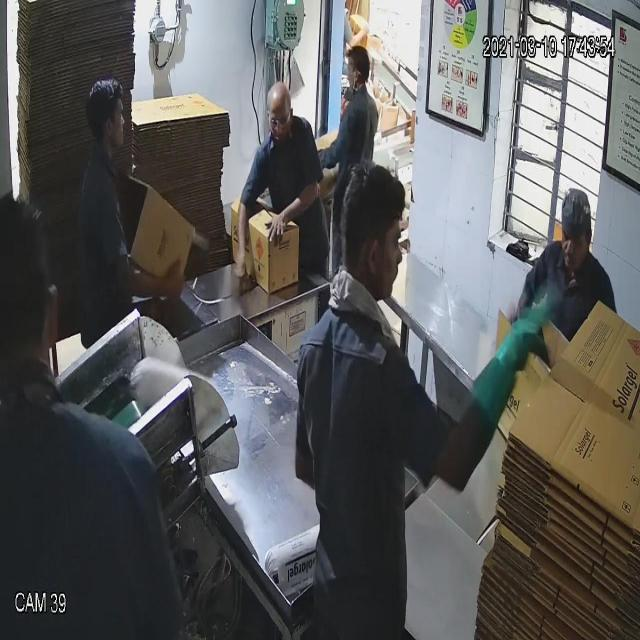gloves: (455, 295, 555, 429)
no-gloves: (108, 245, 190, 308), (269, 182, 327, 251)
